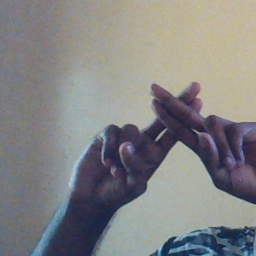F: (108, 72, 249, 172)
